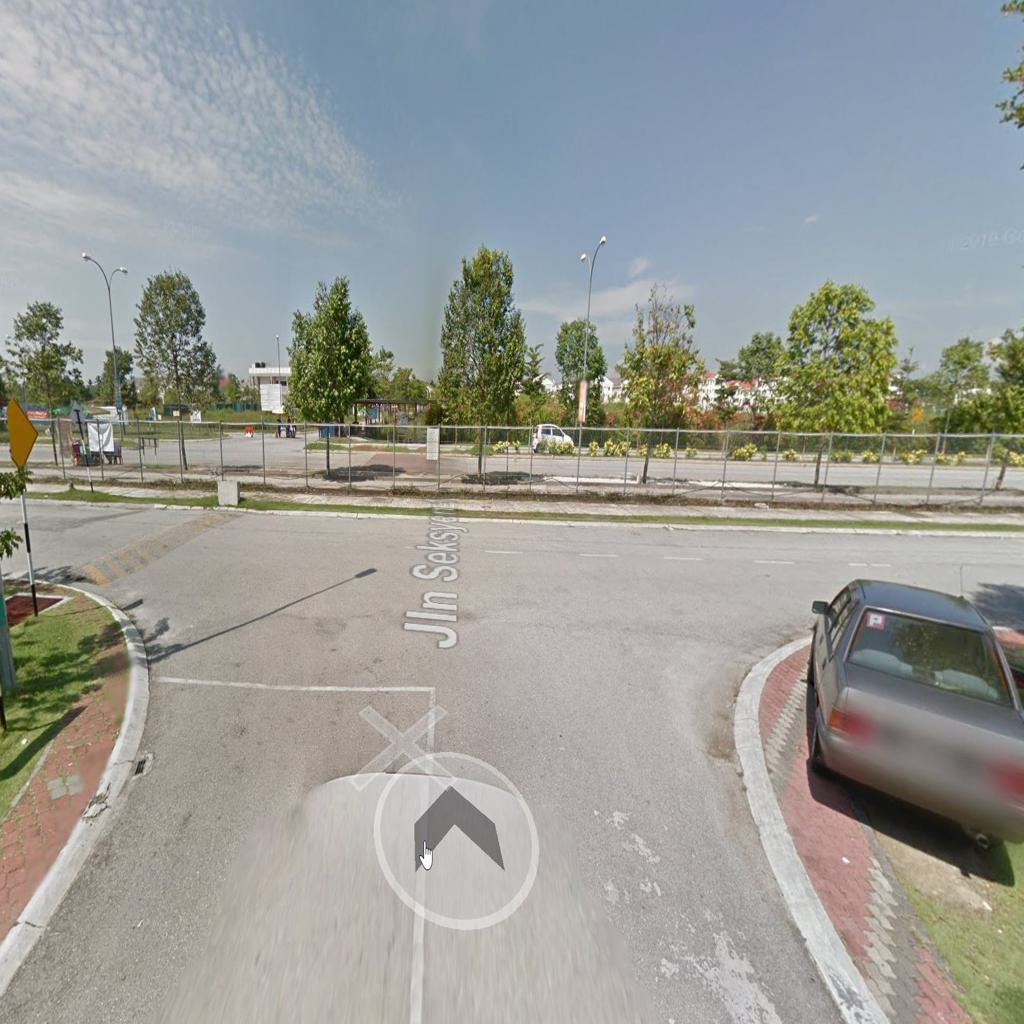Junction: (674, 500, 1011, 656), (11, 459, 227, 682)
